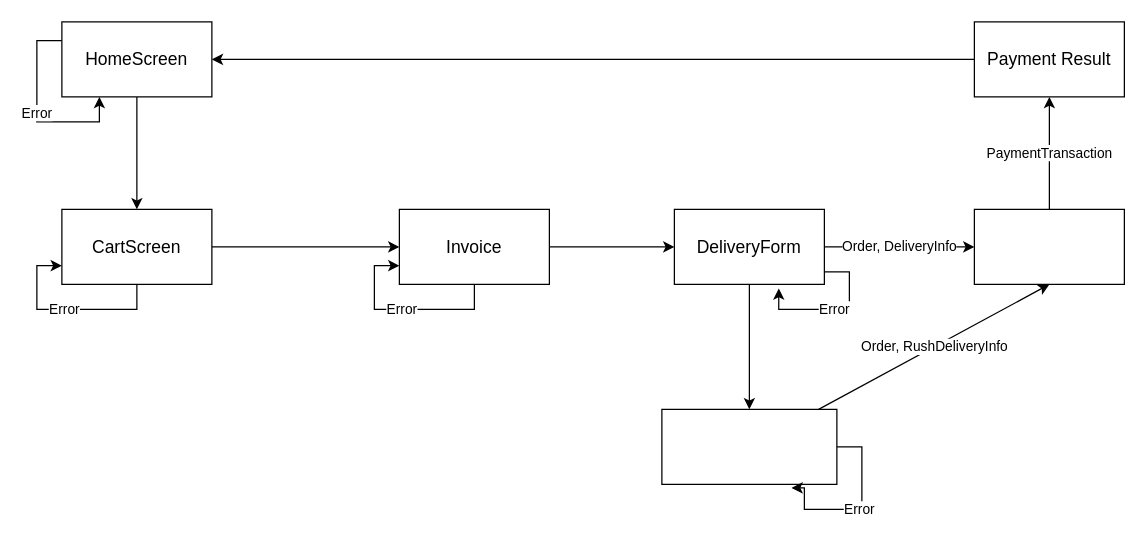
This 1146x541 diagram has some shape labels left out. Each missing label, with the box of its shape:
Payment: (973, 208, 1124, 284)
RushDeliveryForm: (661, 408, 837, 484)
